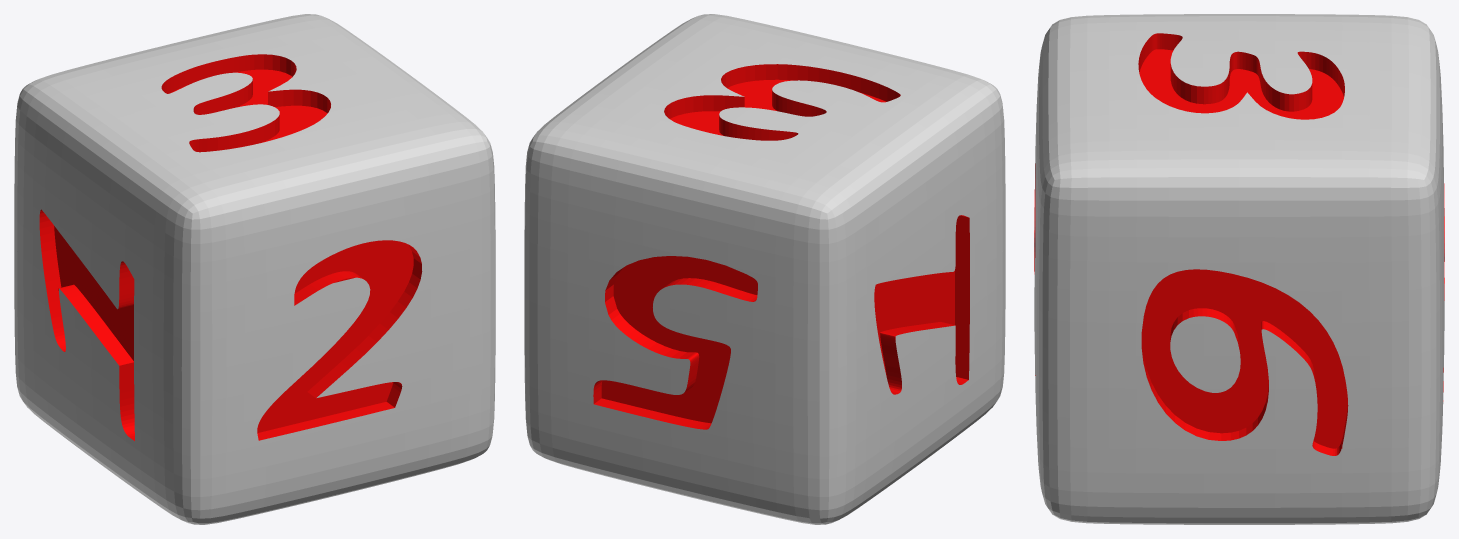
3 renders of one model, left to right at view 1: azimuth 30°, elevation 25°; view 2: azimuth 150°, elevation 25°; view 3: azimuth 270°, elevation 25°, orthographic. The views are drawn at different scales.
Parts seen in each view (by area): view 1: Cube; view 2: Cube; view 3: Cube.
Part boxes in pixels (x1,y1,x2,y2): Cube: (14,14,495,524); Cube: (524,14,1005,524); Cube: (1034,14,1444,524).
Bounding box in the file's own units: 1.99 × 1.99 × 1.99.
